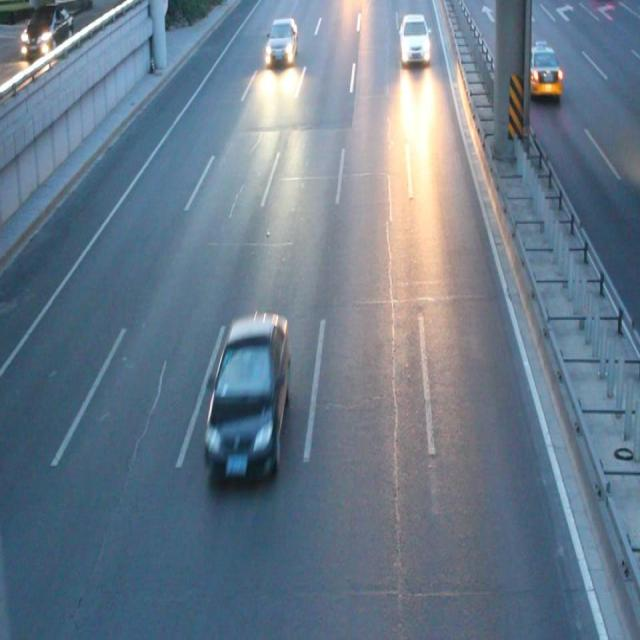car: (203, 313, 288, 482), (518, 43, 560, 96), (398, 12, 428, 63), (264, 19, 296, 65)
